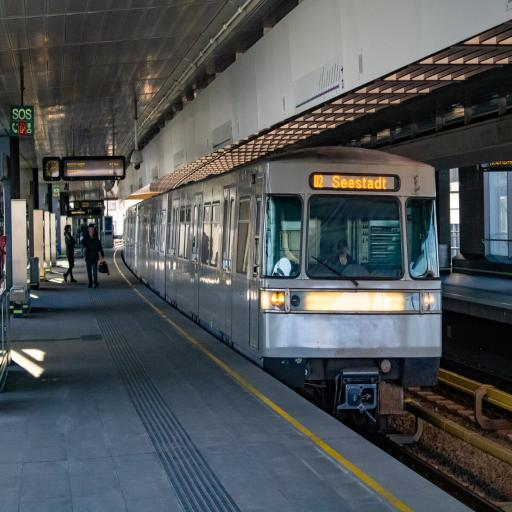Silberpfeil: (121, 144, 445, 369)
